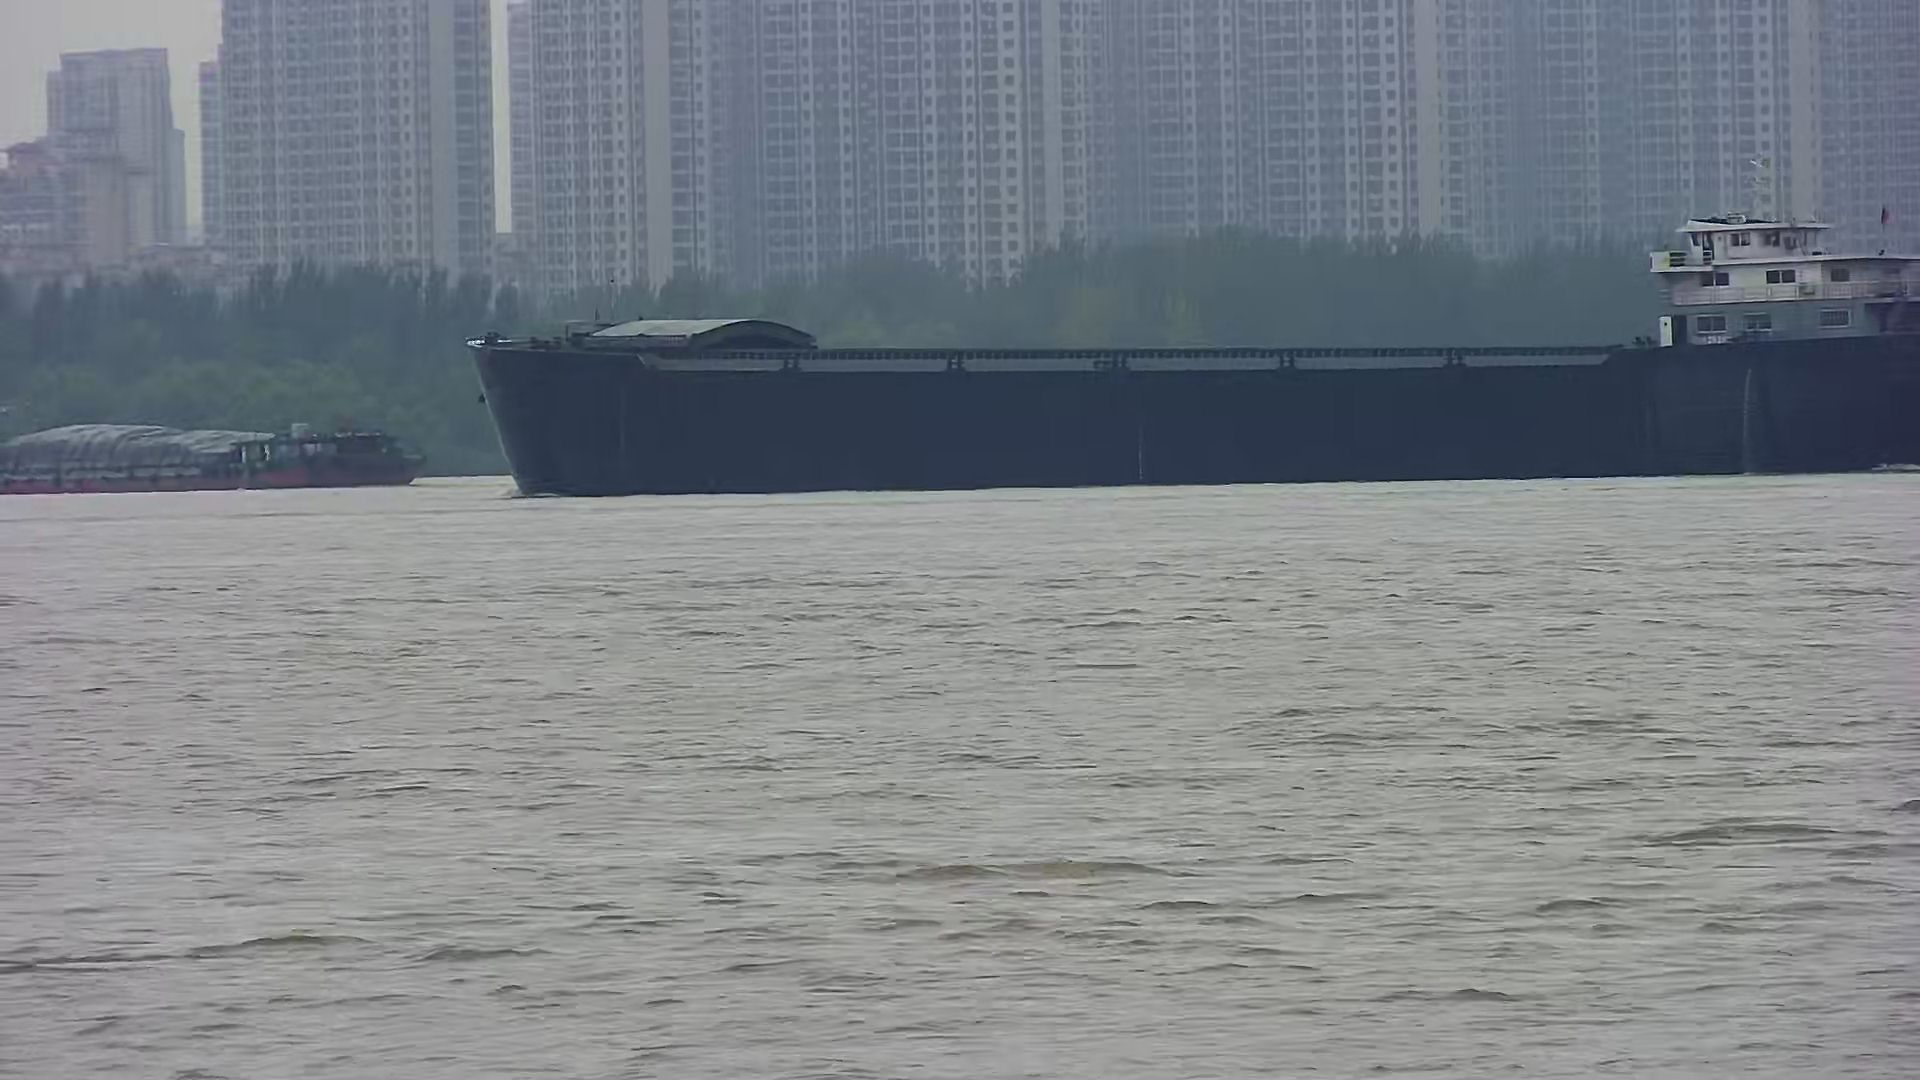ship: (469, 218, 1920, 497), (1, 419, 426, 489)
